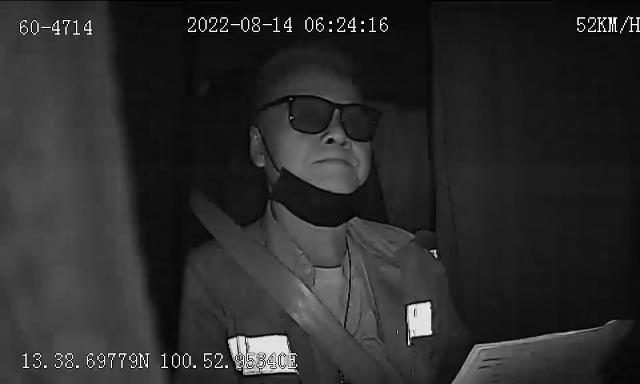Seatbelt: (192, 202, 388, 384)
